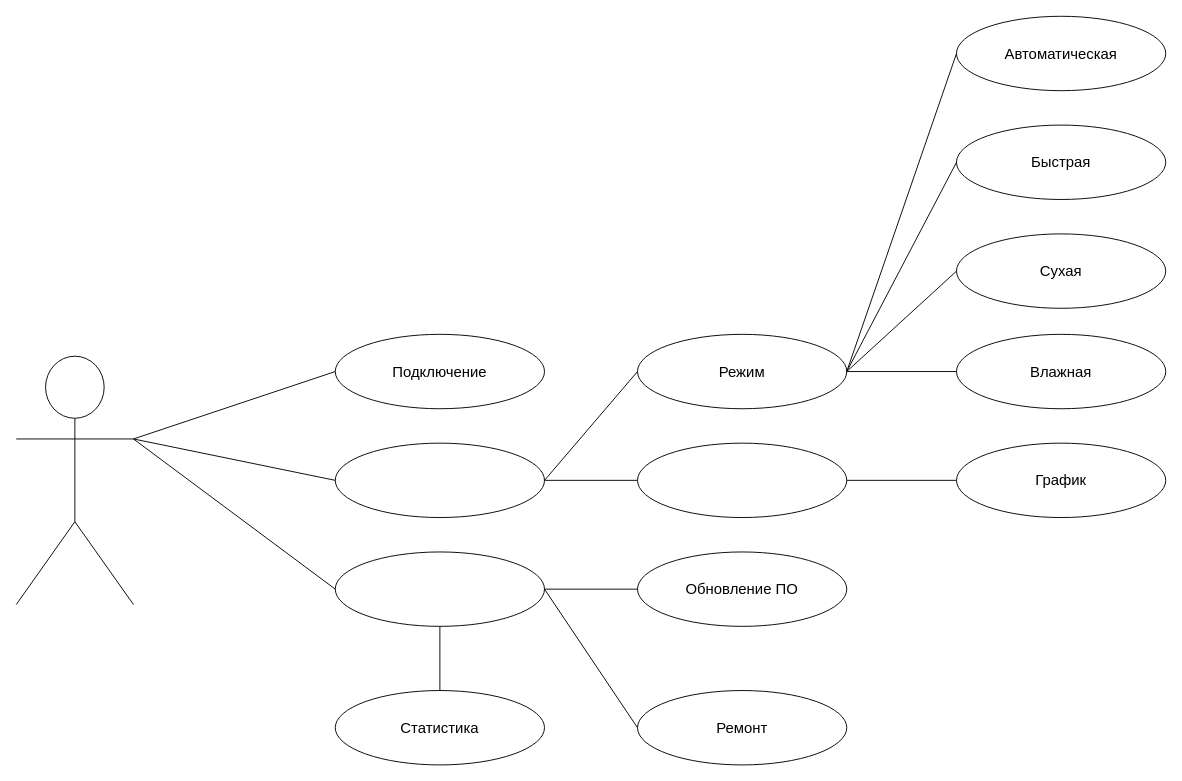
Image size: 1182x781. Some labels were removed from this diagram. Each missing label, with the box of its shape:
Actor: (15, 355, 133, 604)
Обслужвание: (334, 551, 545, 626)
Расписание: (637, 442, 847, 518)
Уборка: (334, 442, 545, 518)
